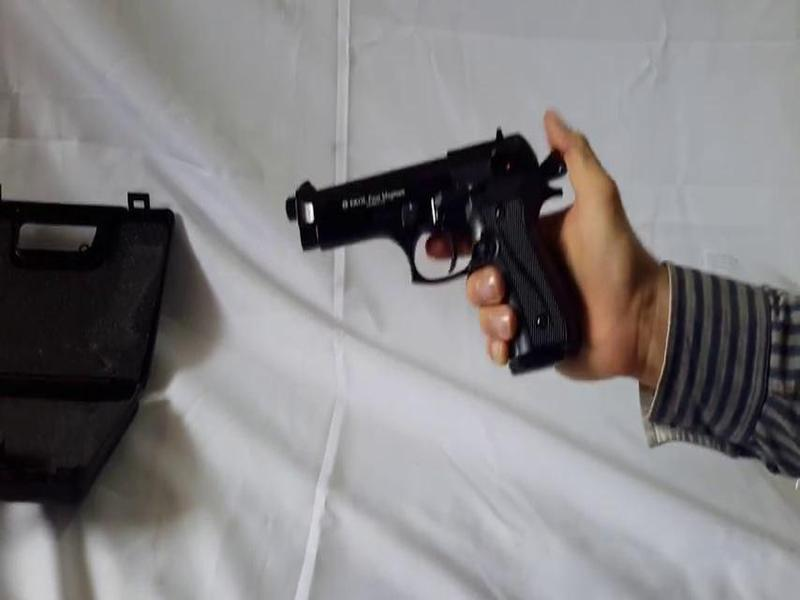Pistola: (257, 119, 601, 370)
